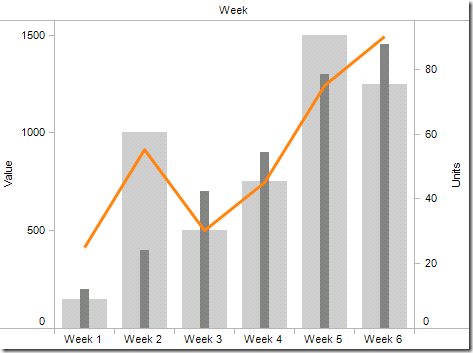OK_NoIssue: (4, 9, 461, 353)
